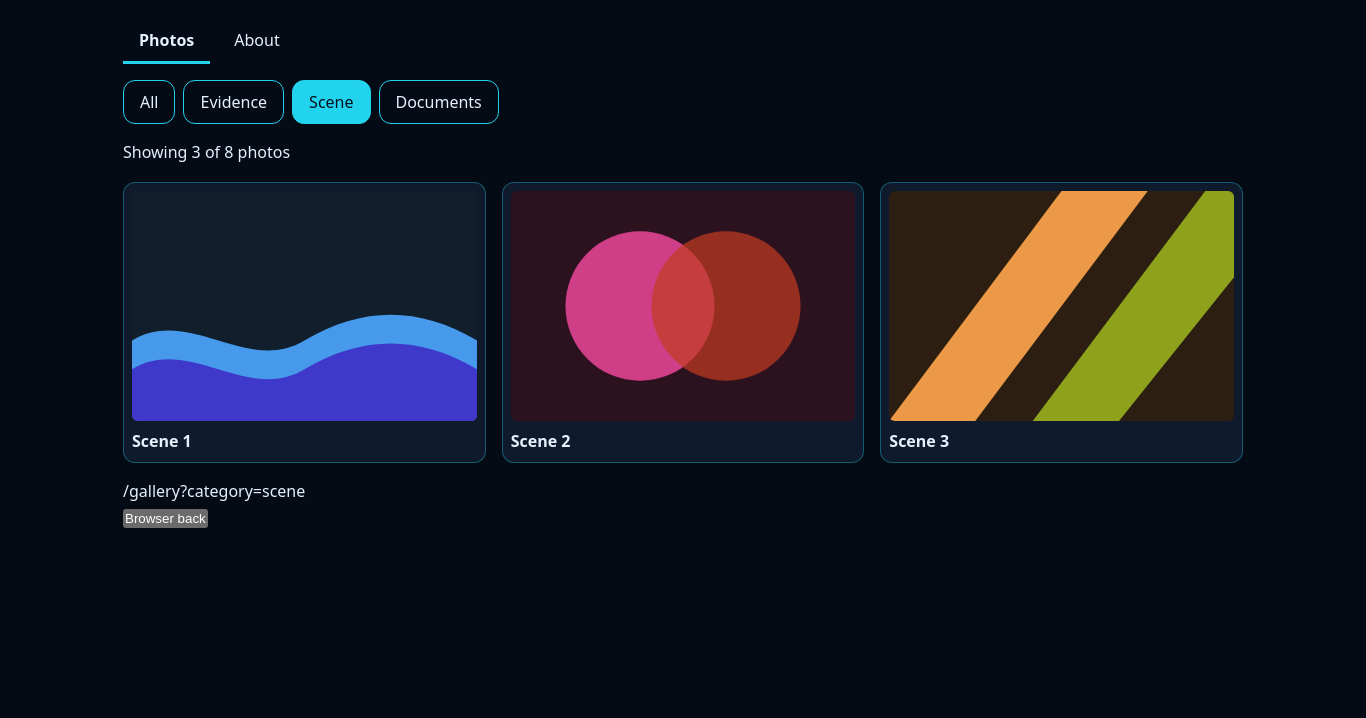
Test case: PhotoGalleryLayout category filter (URL driven) › removes the category from the URL when All is clicked
Click the link "All" at coordinates (149, 102), box [123, 80, 176, 124]
(page scrolled)
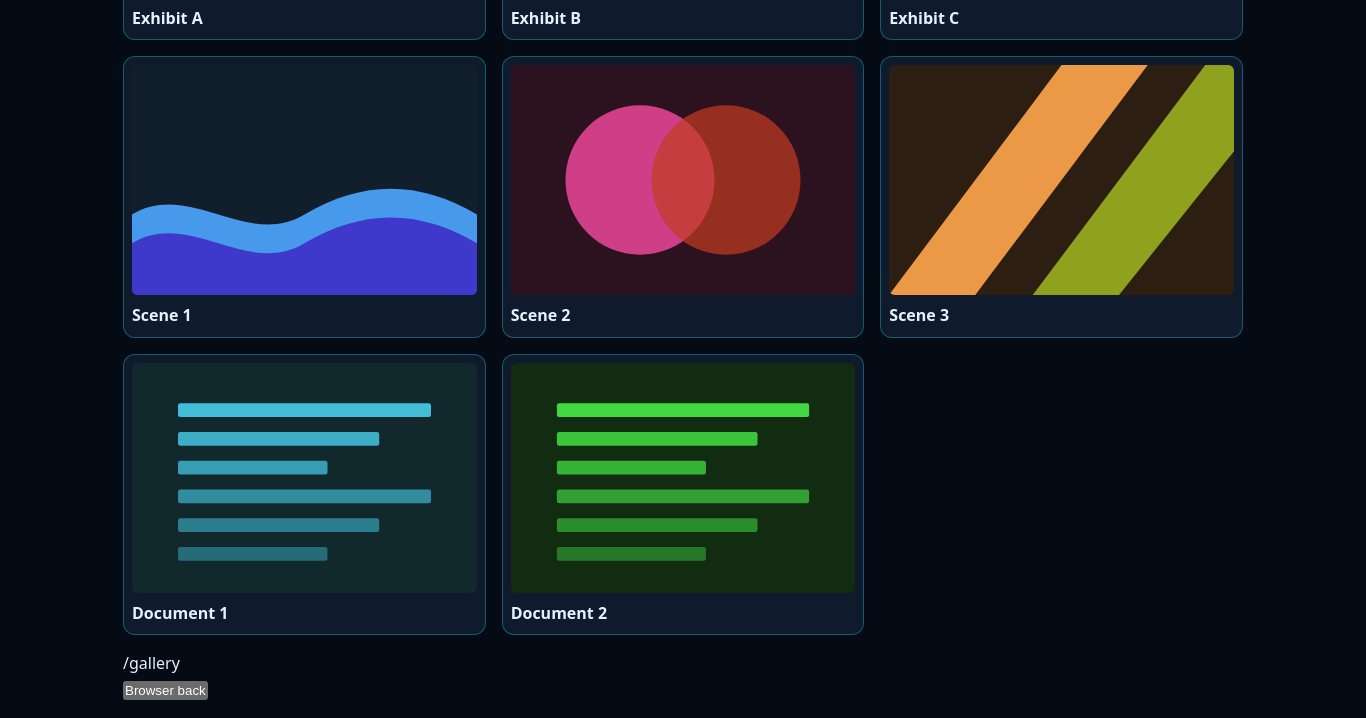
Now the text with test id "url" reads "/gallery", box [123, 652, 180, 674]
